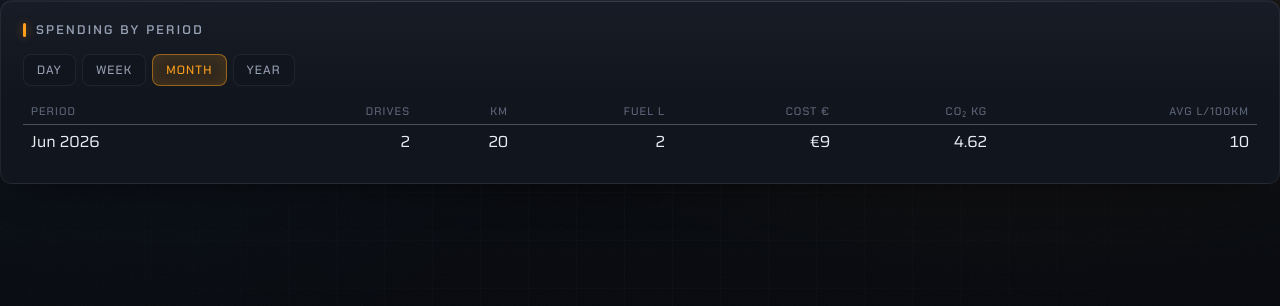
PeriodSummary › day granularity splits them, latest first
Click the button "day" at (49, 70), box [23,54,76,86]
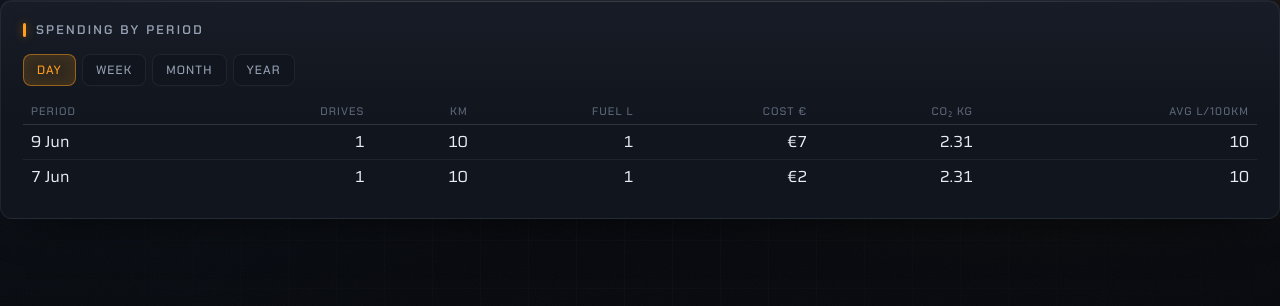
Now the text "€7" is shown, box [642,125,815,160]
